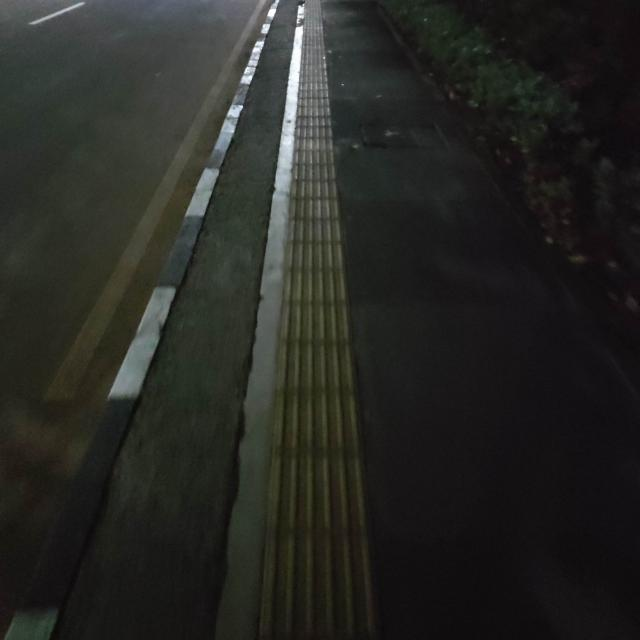lurus: (280, 26, 369, 640)
